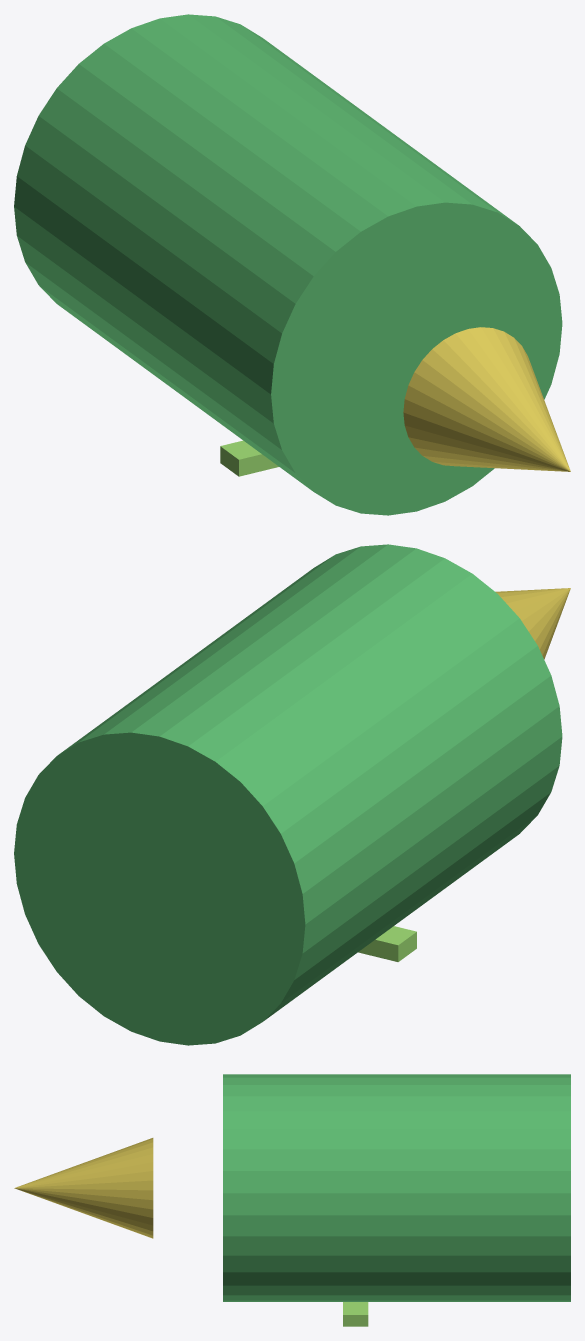
File: collectible_green_candle_token.glb
3 renders of one model, top to bottom at view 1: azimuth 30°, elevation 25°; view 2: azimuth 150°, elevation 25°; view 3: azimuth 270°, elevation 25°, orthographic. The views are drawn at different scales.
Visible parts, largest first — view 1: green_candle, flame, chart; view 2: green_candle, flame, chart; view 3: green_candle, flame, chart.
Part boxes in pixels (x1,y1,x2,y2): green_candle: [14, 14, 562, 515]; flame: [403, 327, 570, 471]; chart: [220, 440, 278, 476]; green_candle: [14, 544, 562, 1045]; flame: [495, 588, 570, 659]; chart: [358, 926, 416, 961]; green_candle: [223, 1074, 570, 1301]; flame: [14, 1138, 153, 1238]; chart: [343, 1302, 368, 1326].
Bounding box in the file's own units: 0.36 × 0.37 × 0.88.
